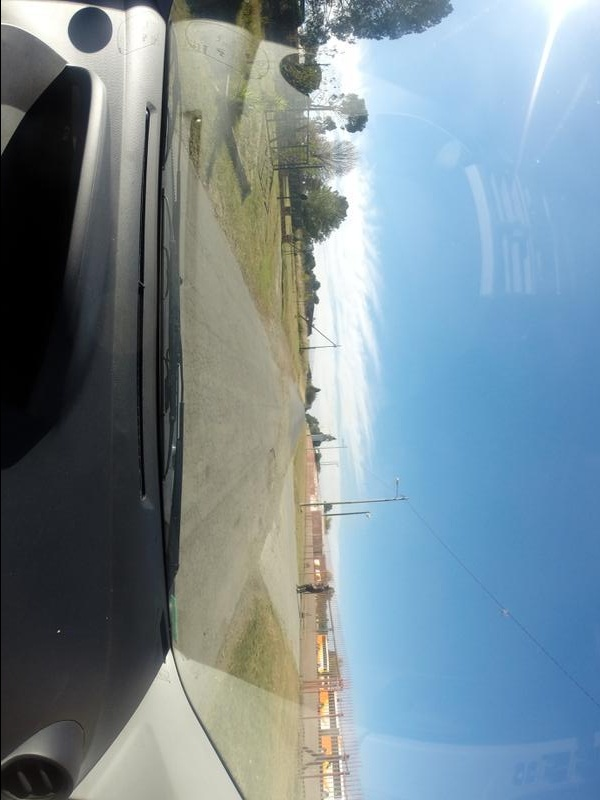pothole: (259, 442, 290, 502)
